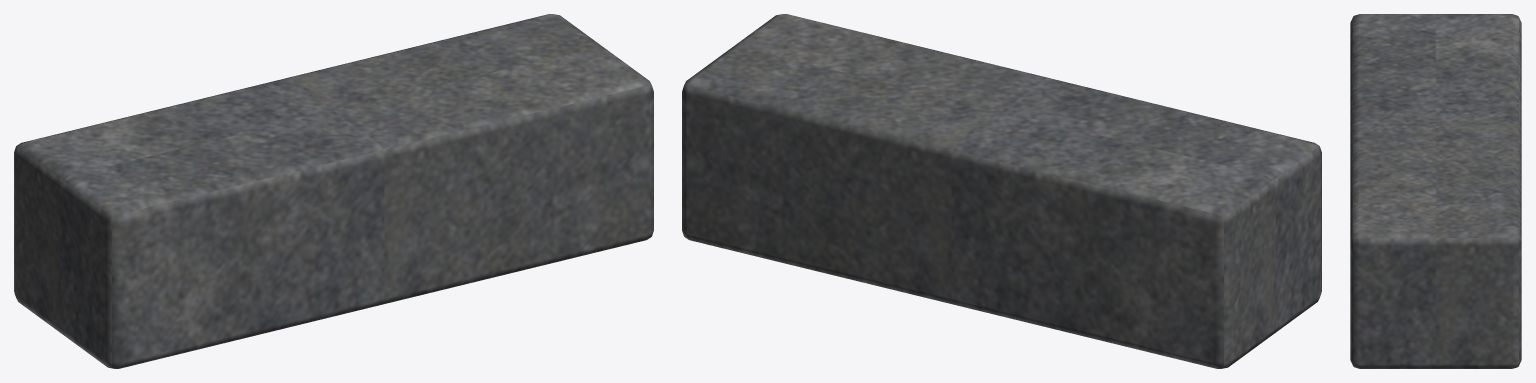
File: bo_via.glb
The picture shows the model from 3 angles, left to right: view 1: azimuth 30°, elevation 25°; view 2: azimuth 150°, elevation 25°; view 3: azimuth 270°, elevation 25°; orthographic projection. The views are drawn at different scales.
Visible parts, largest first — view 1: bo_via.001; view 2: bo_via.001; view 3: bo_via.001.
Part boxes in pixels (box(x1,y1,x2,y2)): bo_via.001: box(14, 14, 653, 368); bo_via.001: box(682, 14, 1321, 368); bo_via.001: box(1350, 14, 1521, 368).
Size of the model in its own units: 1 by 0.28 by 0.32.
1 material, 1 textured.
